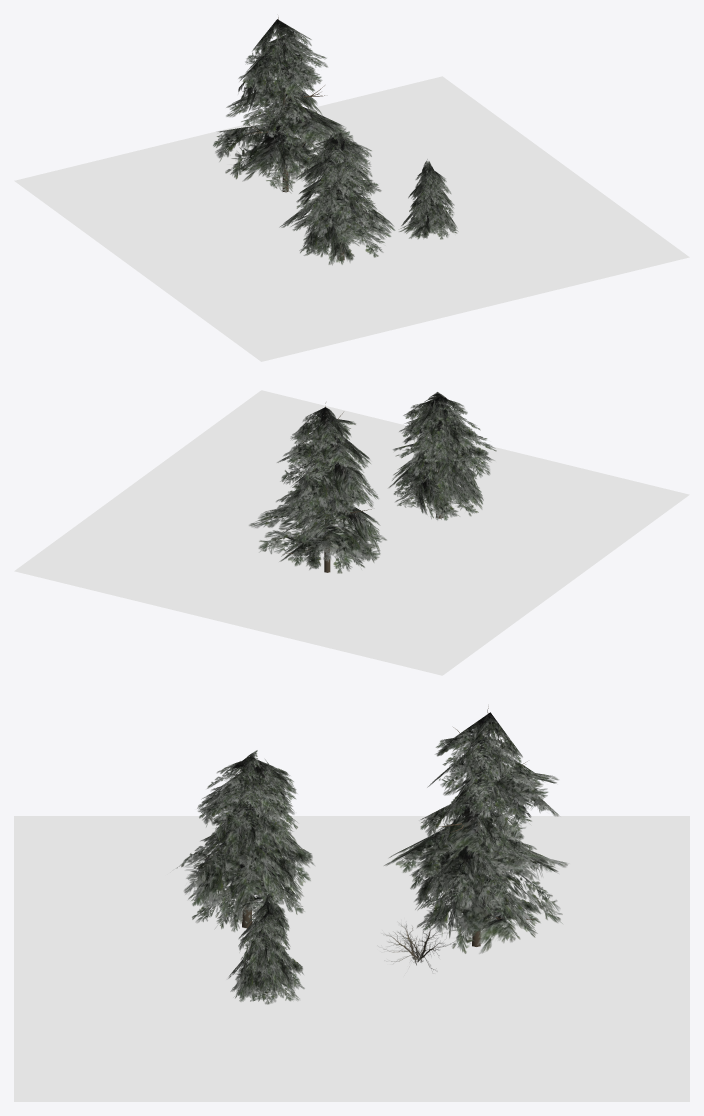
The model's file is snowpines.glb.
3 views of the same model, one above another, from view 1: azimuth 30°, elevation 25°; view 2: azimuth 150°, elevation 25°; view 3: azimuth 270°, elevation 25° (orthographic). The views are drawn at different scales.
Visible parts, largest first — view 1: Plane, SnowTree2, SnowTree1, SnowTree1.001; view 2: Plane, SnowTree2, SnowTree1; view 3: Plane, SnowTree2, SnowTree1, SnowTree1.001, BushBare1.
Part boxes in pixels (x1,y1,x2,y2): Plane: [14, 76, 689, 361]; SnowTree2: [213, 17, 353, 193]; SnowTree1: [279, 129, 395, 265]; SnowTree1.001: [399, 159, 458, 239]; Plane: [14, 390, 689, 675]; SnowTree2: [249, 403, 386, 573]; SnowTree1: [388, 392, 496, 520]; Plane: [14, 816, 689, 1101]; SnowTree2: [384, 706, 569, 953]; SnowTree1: [176, 750, 314, 931]; SnowTree1.001: [228, 893, 304, 1004]; BushBare1: [377, 920, 455, 971].
Size of the model in its own units: 18.27 by 7.95 by 18.27.
4 materials, 2 textured.
